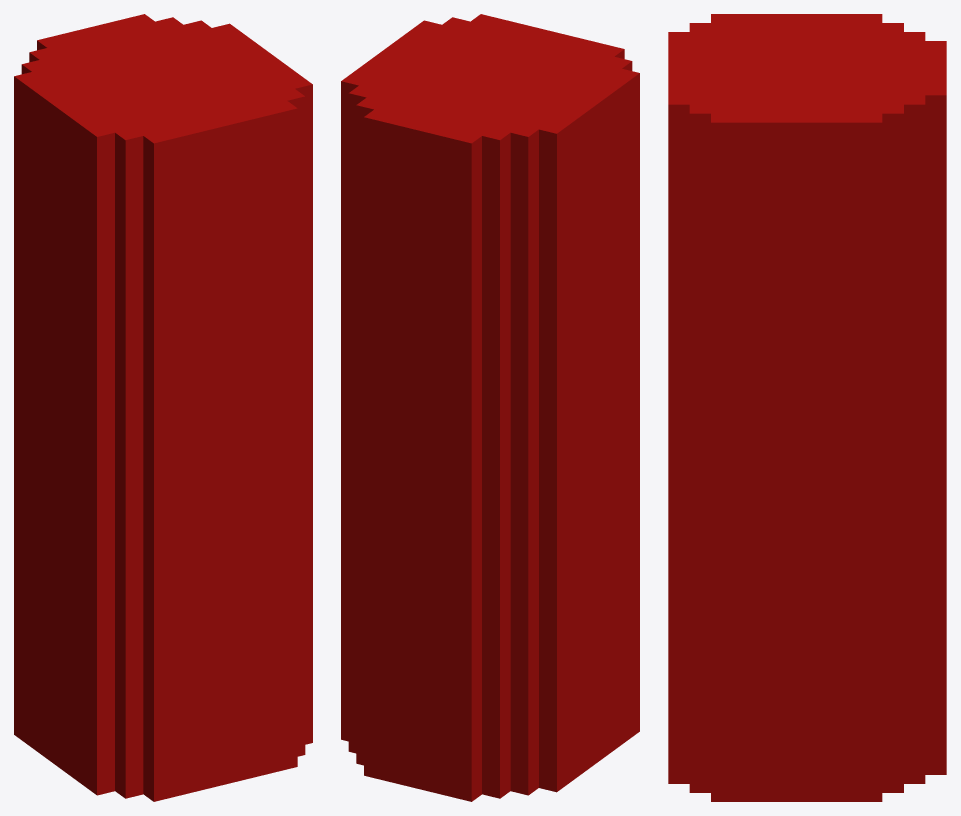
Rendered from worn_hoodie_upper.glb.
3 renders of one model, left to right at view 1: azimuth 30°, elevation 25°; view 2: azimuth 150°, elevation 25°; view 3: azimuth 270°, elevation 25°, orthographic. The views are drawn at different scales.
Visible parts, largest first — view 1: garment:compound; view 2: garment:compound; view 3: garment:compound.
Boxes of the visible parts, x1,y1,x2,y2 form: garment:compound: (14,14,312,801); garment:compound: (341,14,639,801); garment:compound: (668,14,946,801).
Bounding box in the file's own units: 0.12 × 0.35 × 0.13.
